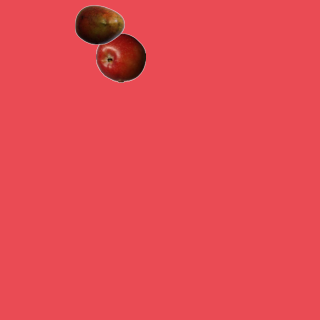Apple Braeburn: (95, 32, 145, 82)
Mango Red: (74, 0, 124, 49)
